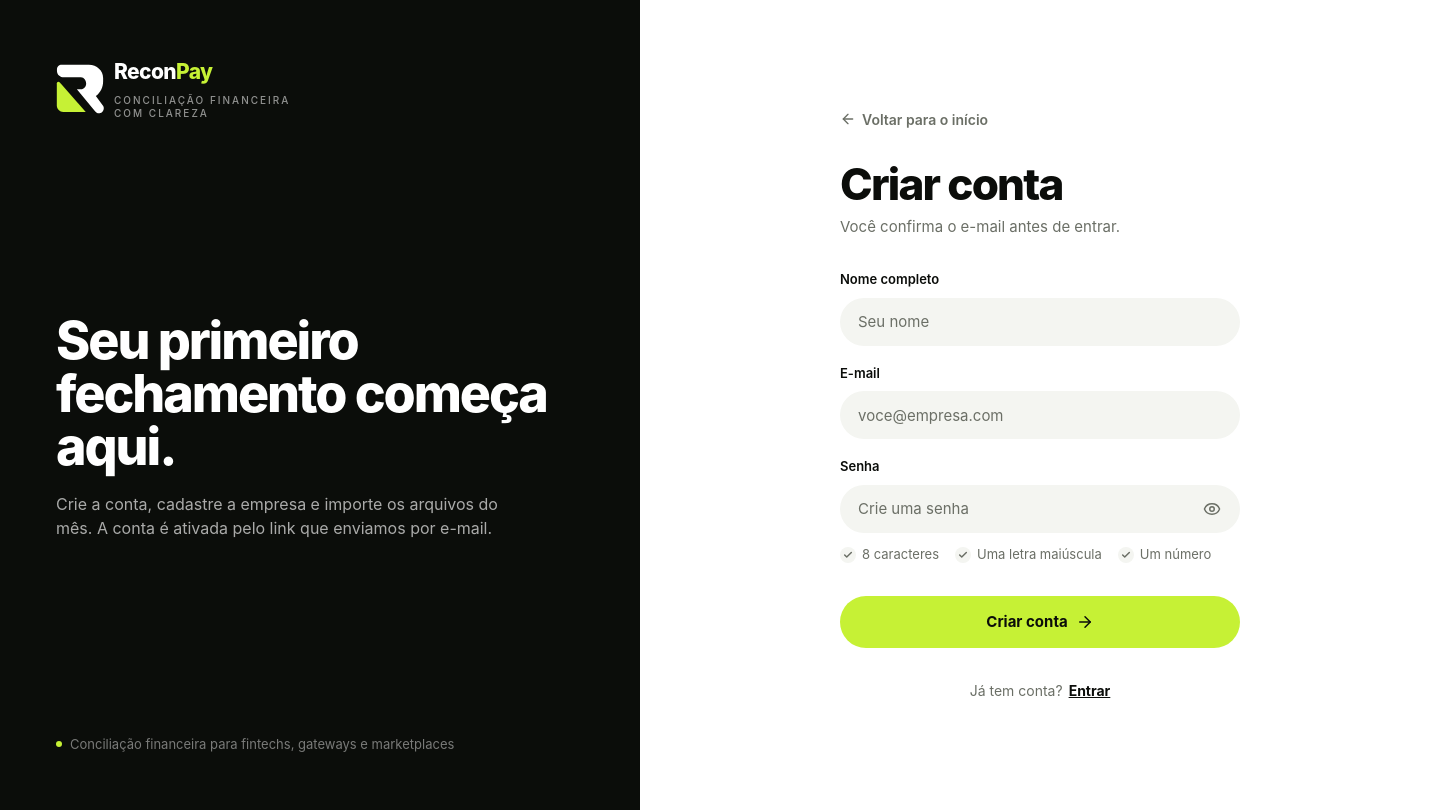
Test: RegisterPage › mostra a mensagem da API acima do botão e mantém os campos (CAD-04 AC1)
This screenshot has width=1440, height=810.
Type "Ana Souza" into the field labelled "Nome completo".
click(1040, 322); type("Ana Souza")  # box top-left (840, 298), bottom-right (1240, 346)
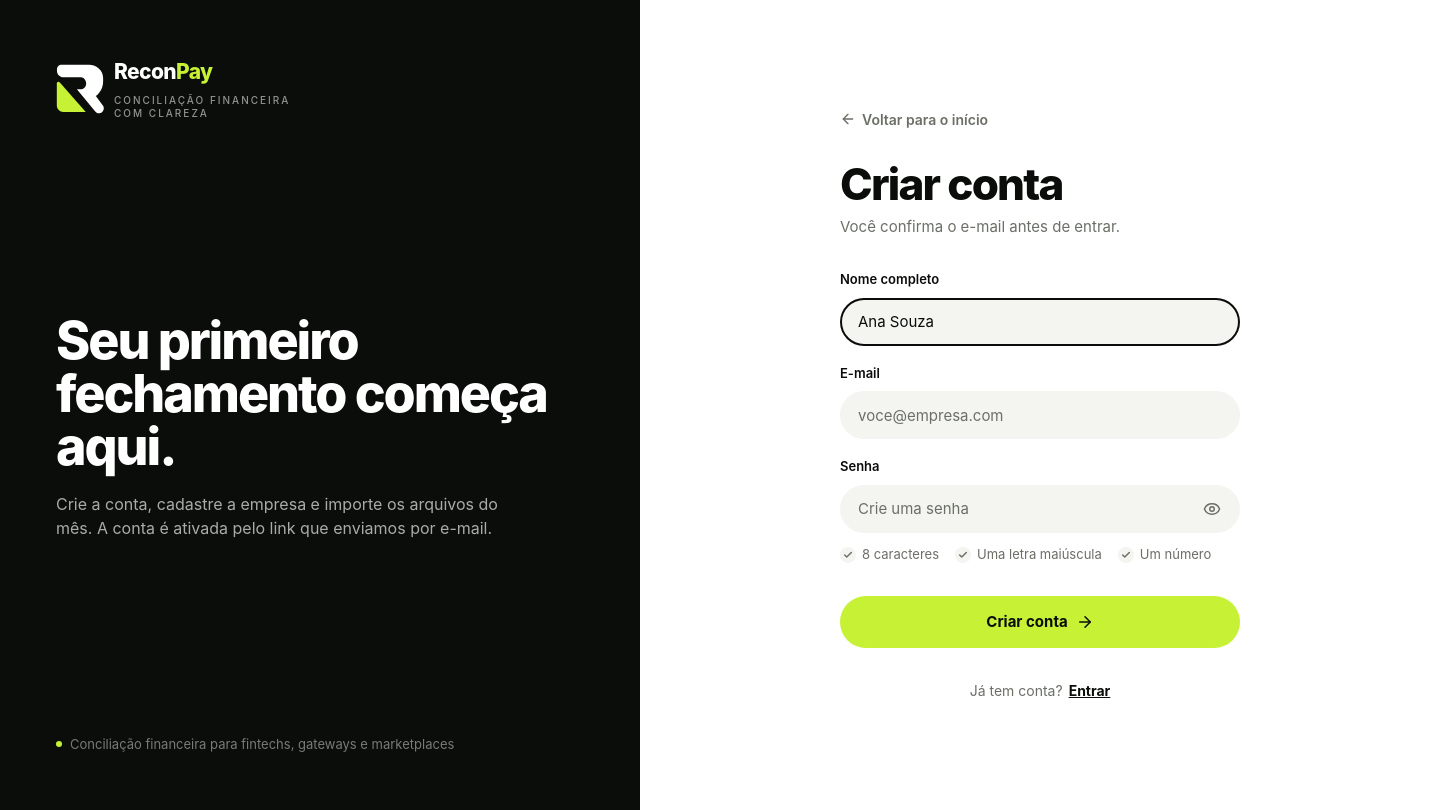
Type "ana@lojacentro.com.br" into the field labelled "E-mail".
click(1040, 415); type("ana@lojacentro.com.br")  # box top-left (840, 391), bottom-right (1240, 439)
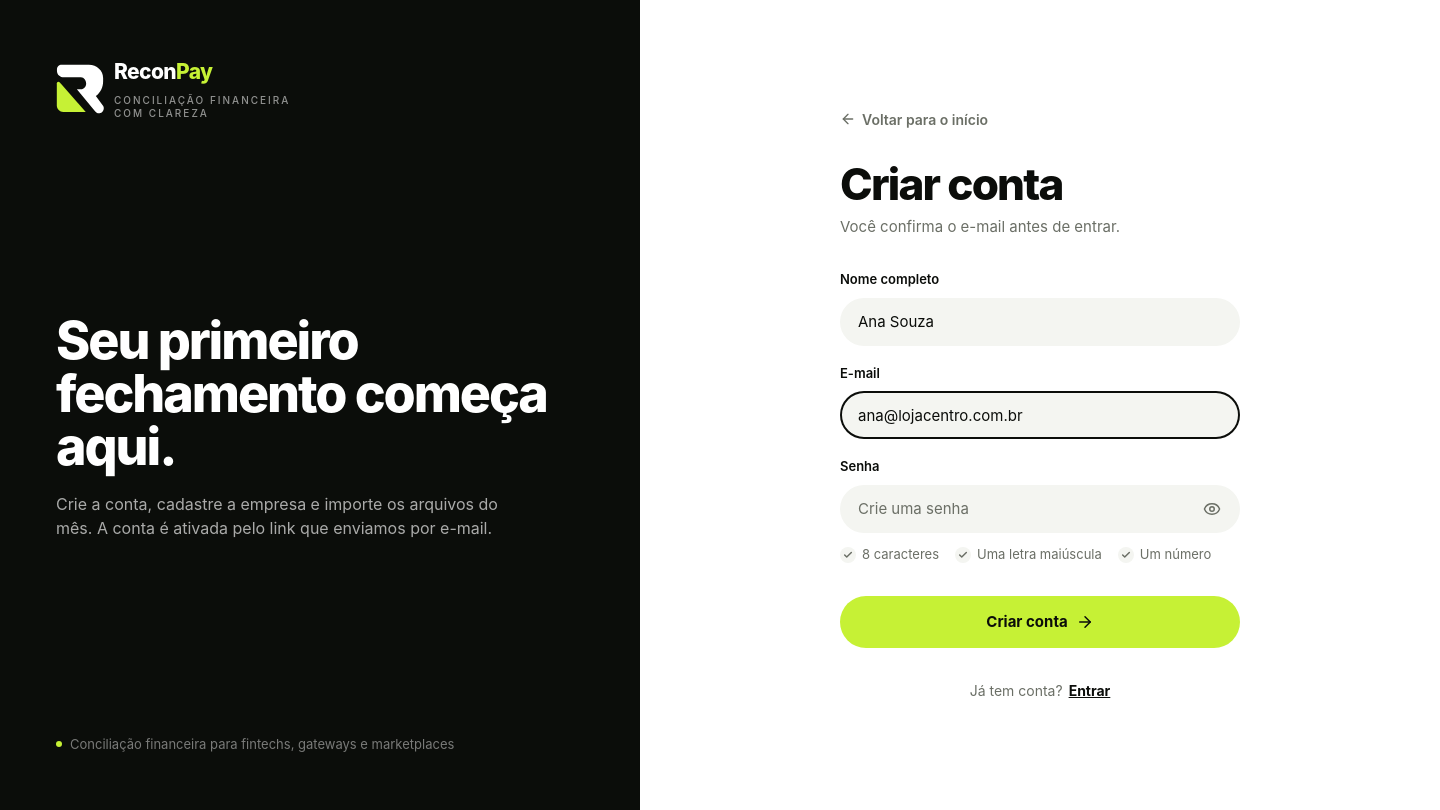
Type "Reconpay20" into the password field labelled "Senha".
click(1040, 509); type("Reconpay20")  # box top-left (840, 485), bottom-right (1240, 533)
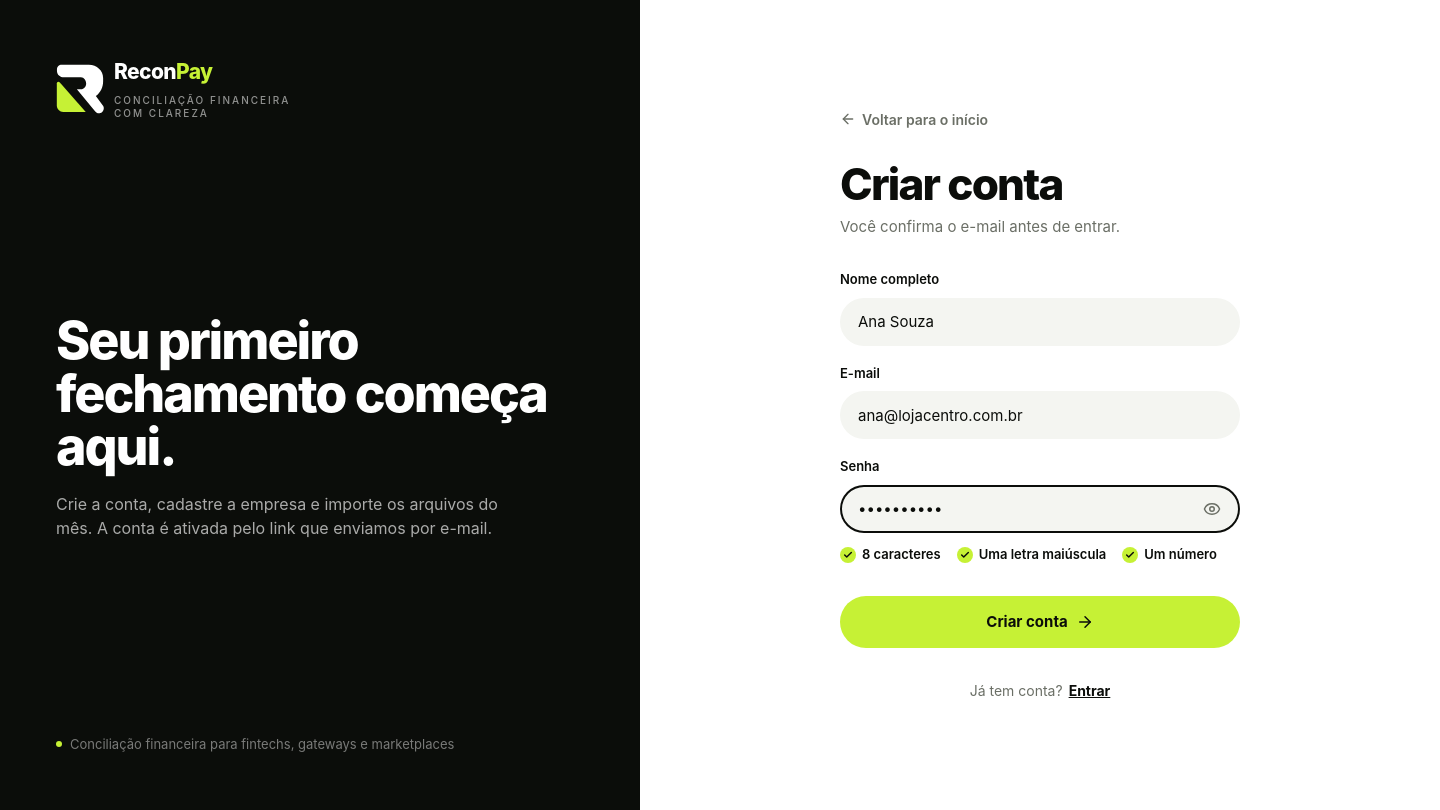
Click the button "Criar conta".
click(1040, 622)  # box top-left (840, 596), bottom-right (1240, 648)
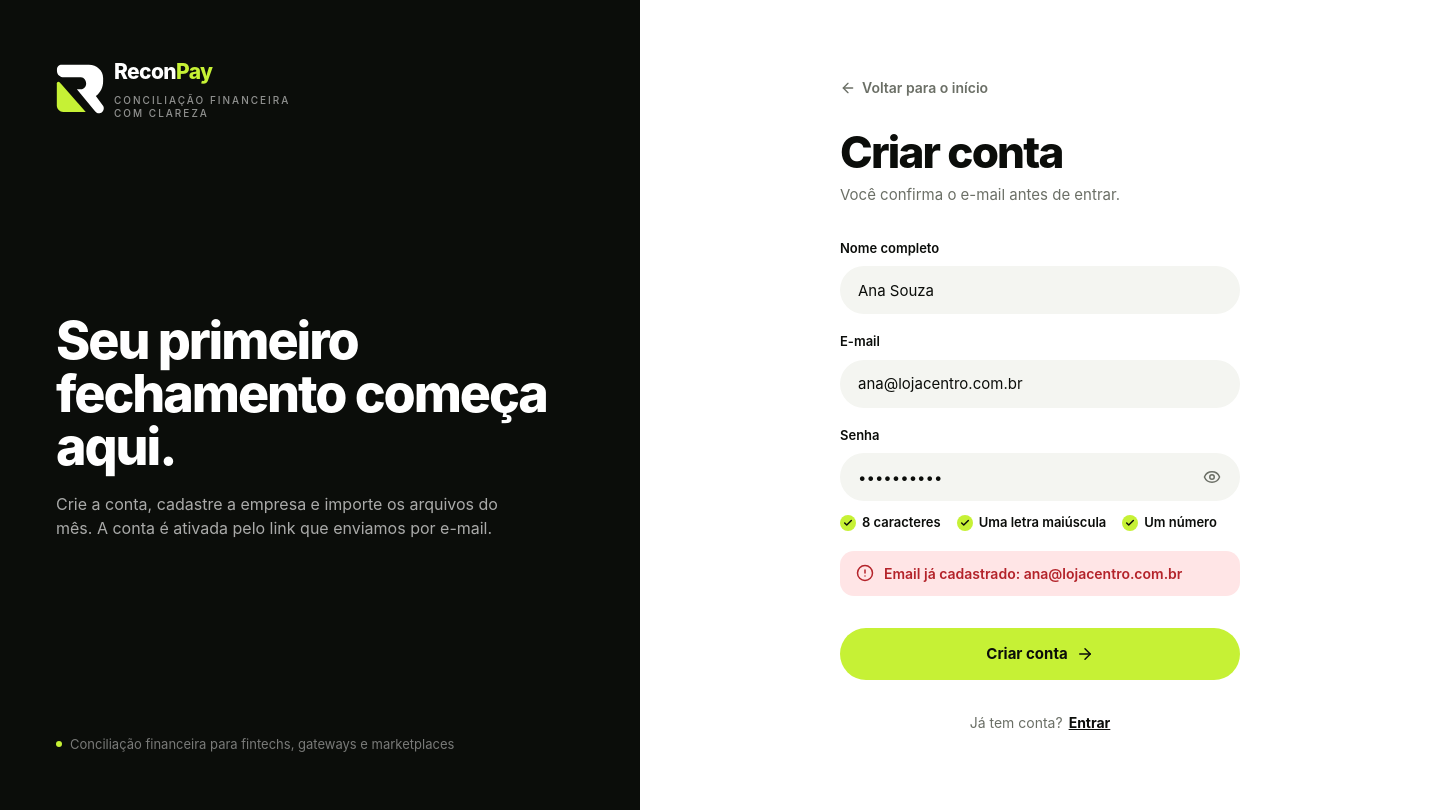
Expected: the button "Criar conta" is enabled, top-left (840, 628), bottom-right (1240, 680)
Expected: the message reads "Email já cadastrado: ana@lojacentro.com.br", top-left (884, 565), bottom-right (1182, 582)
